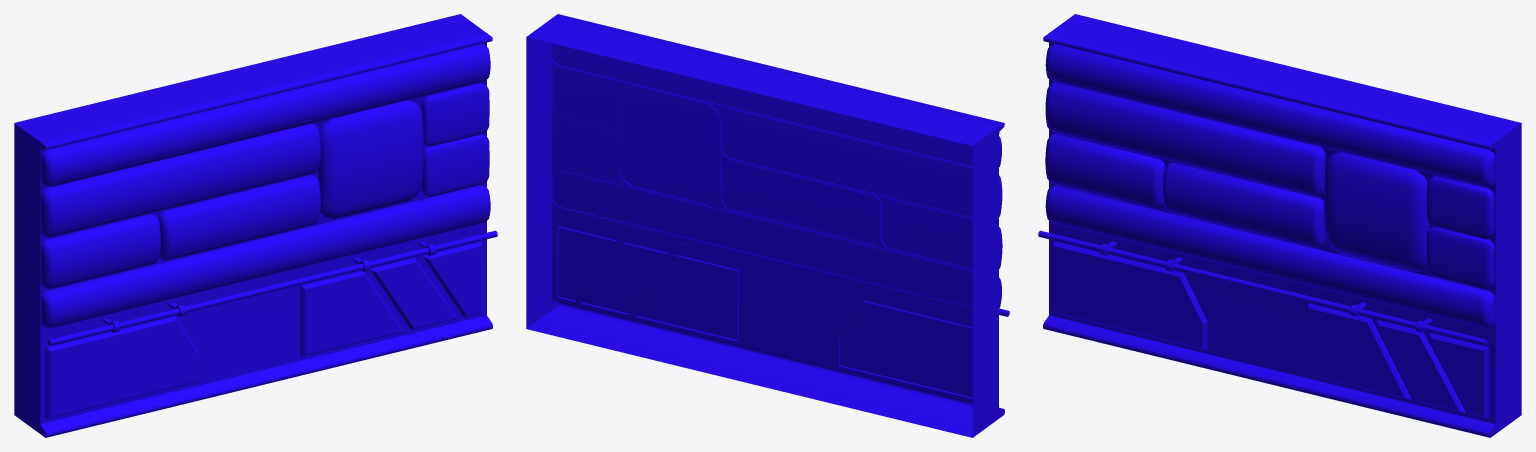
The model's file is pared1.fbx.
3 views of the same model, side by side, from view 1: azimuth 30°, elevation 25°; view 2: azimuth 150°, elevation 25°; view 3: azimuth 330°, elevation 25° (orthographic).
Visible parts, largest first — view 1: 026; view 2: 026; view 3: 026.
Part boxes in pixels (bbox=[...]): 026: bbox=[14, 14, 497, 437]; 026: bbox=[526, 14, 1009, 437]; 026: bbox=[1038, 14, 1521, 437].
Bounding box in the file's own units: 400 × 250 × 59.46.
